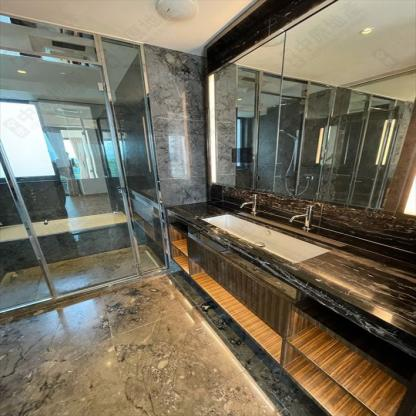Bathtub: (0, 210, 136, 270)
Faucet: (291, 202, 318, 230), (236, 191, 262, 215)
Toilet Sink: (200, 214, 330, 264)
Water Cubicle: (0, 12, 170, 311)
